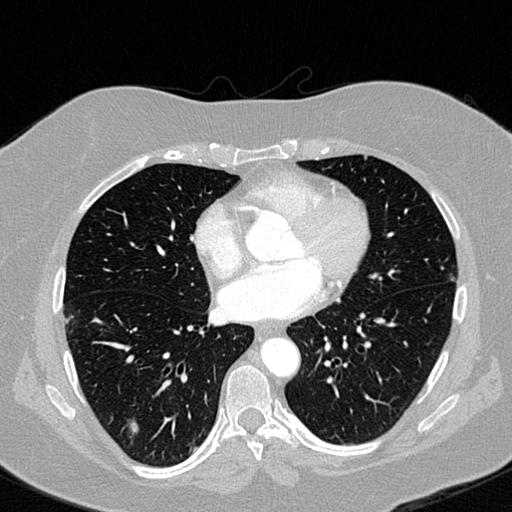nodule: (124, 418, 143, 437)
